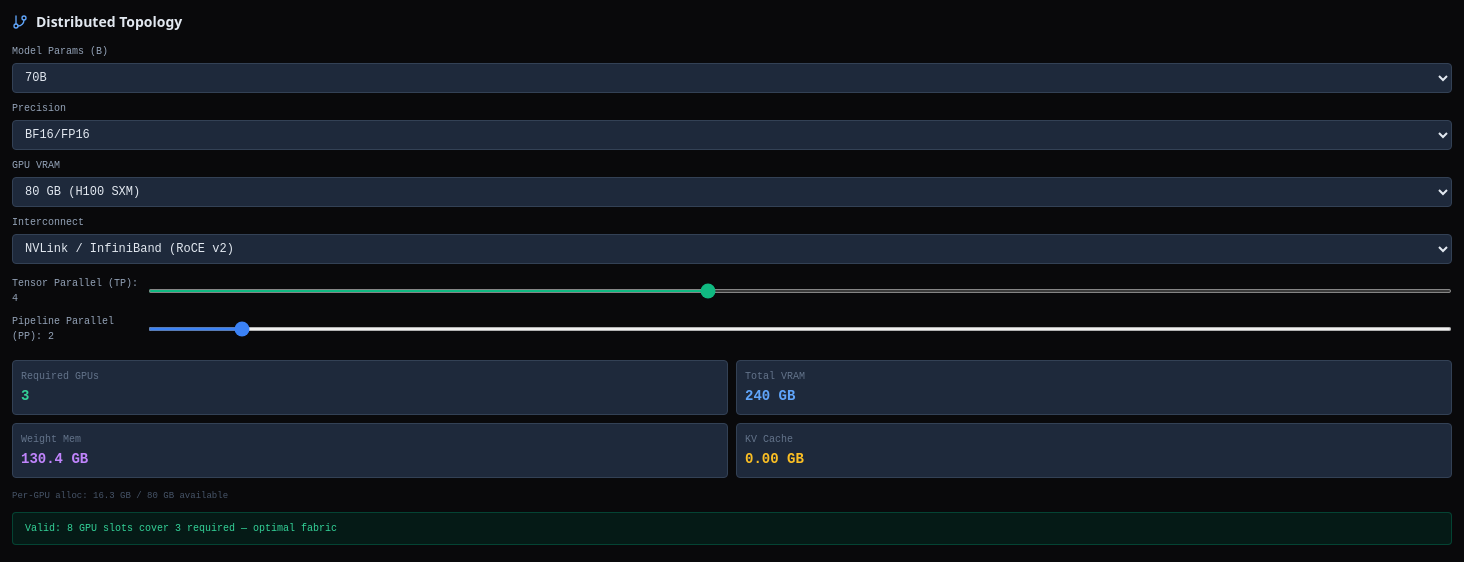
Test: TopologyCalc › shows PCIe warning when PP > 1 and interconnect is pcie
# Interconnect is select index 3
Select "Standard PCIe" in the dropdown below "Interconnect": (732,249) [12,234,1452,264]
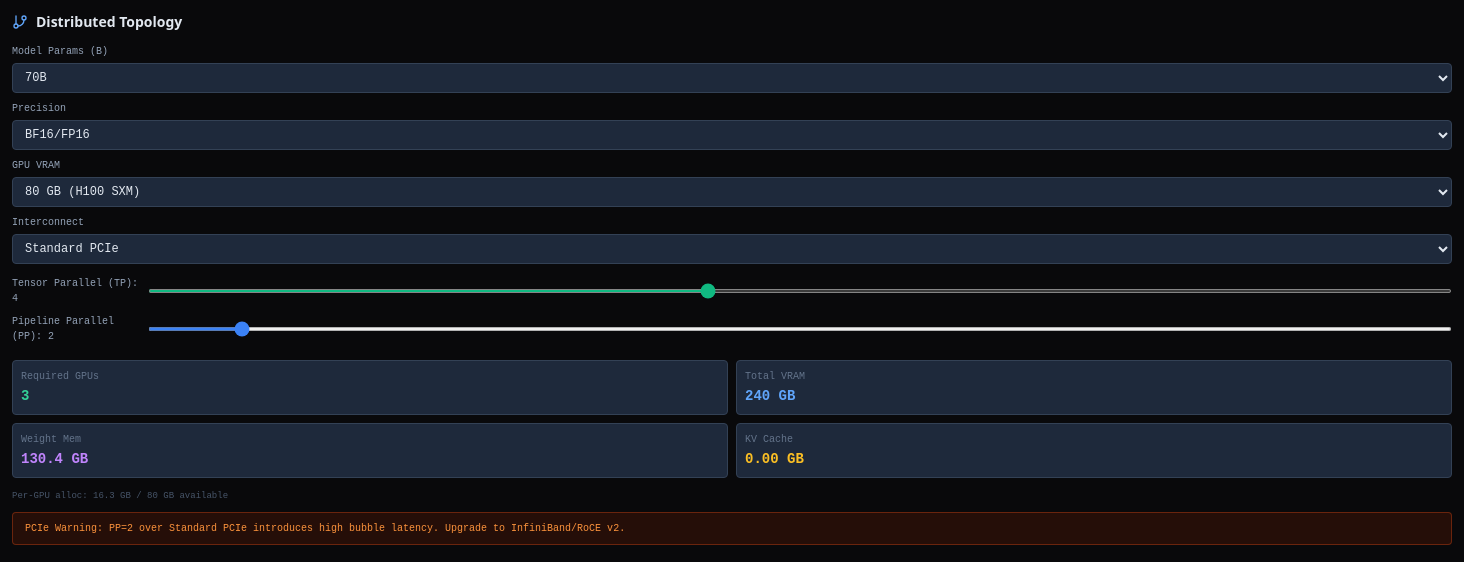
Expected: the text "PCIe Warning:" is shown, [25,522,127,534]
Expected: the text "high bubble latency" is shown, [133,522,625,534]
